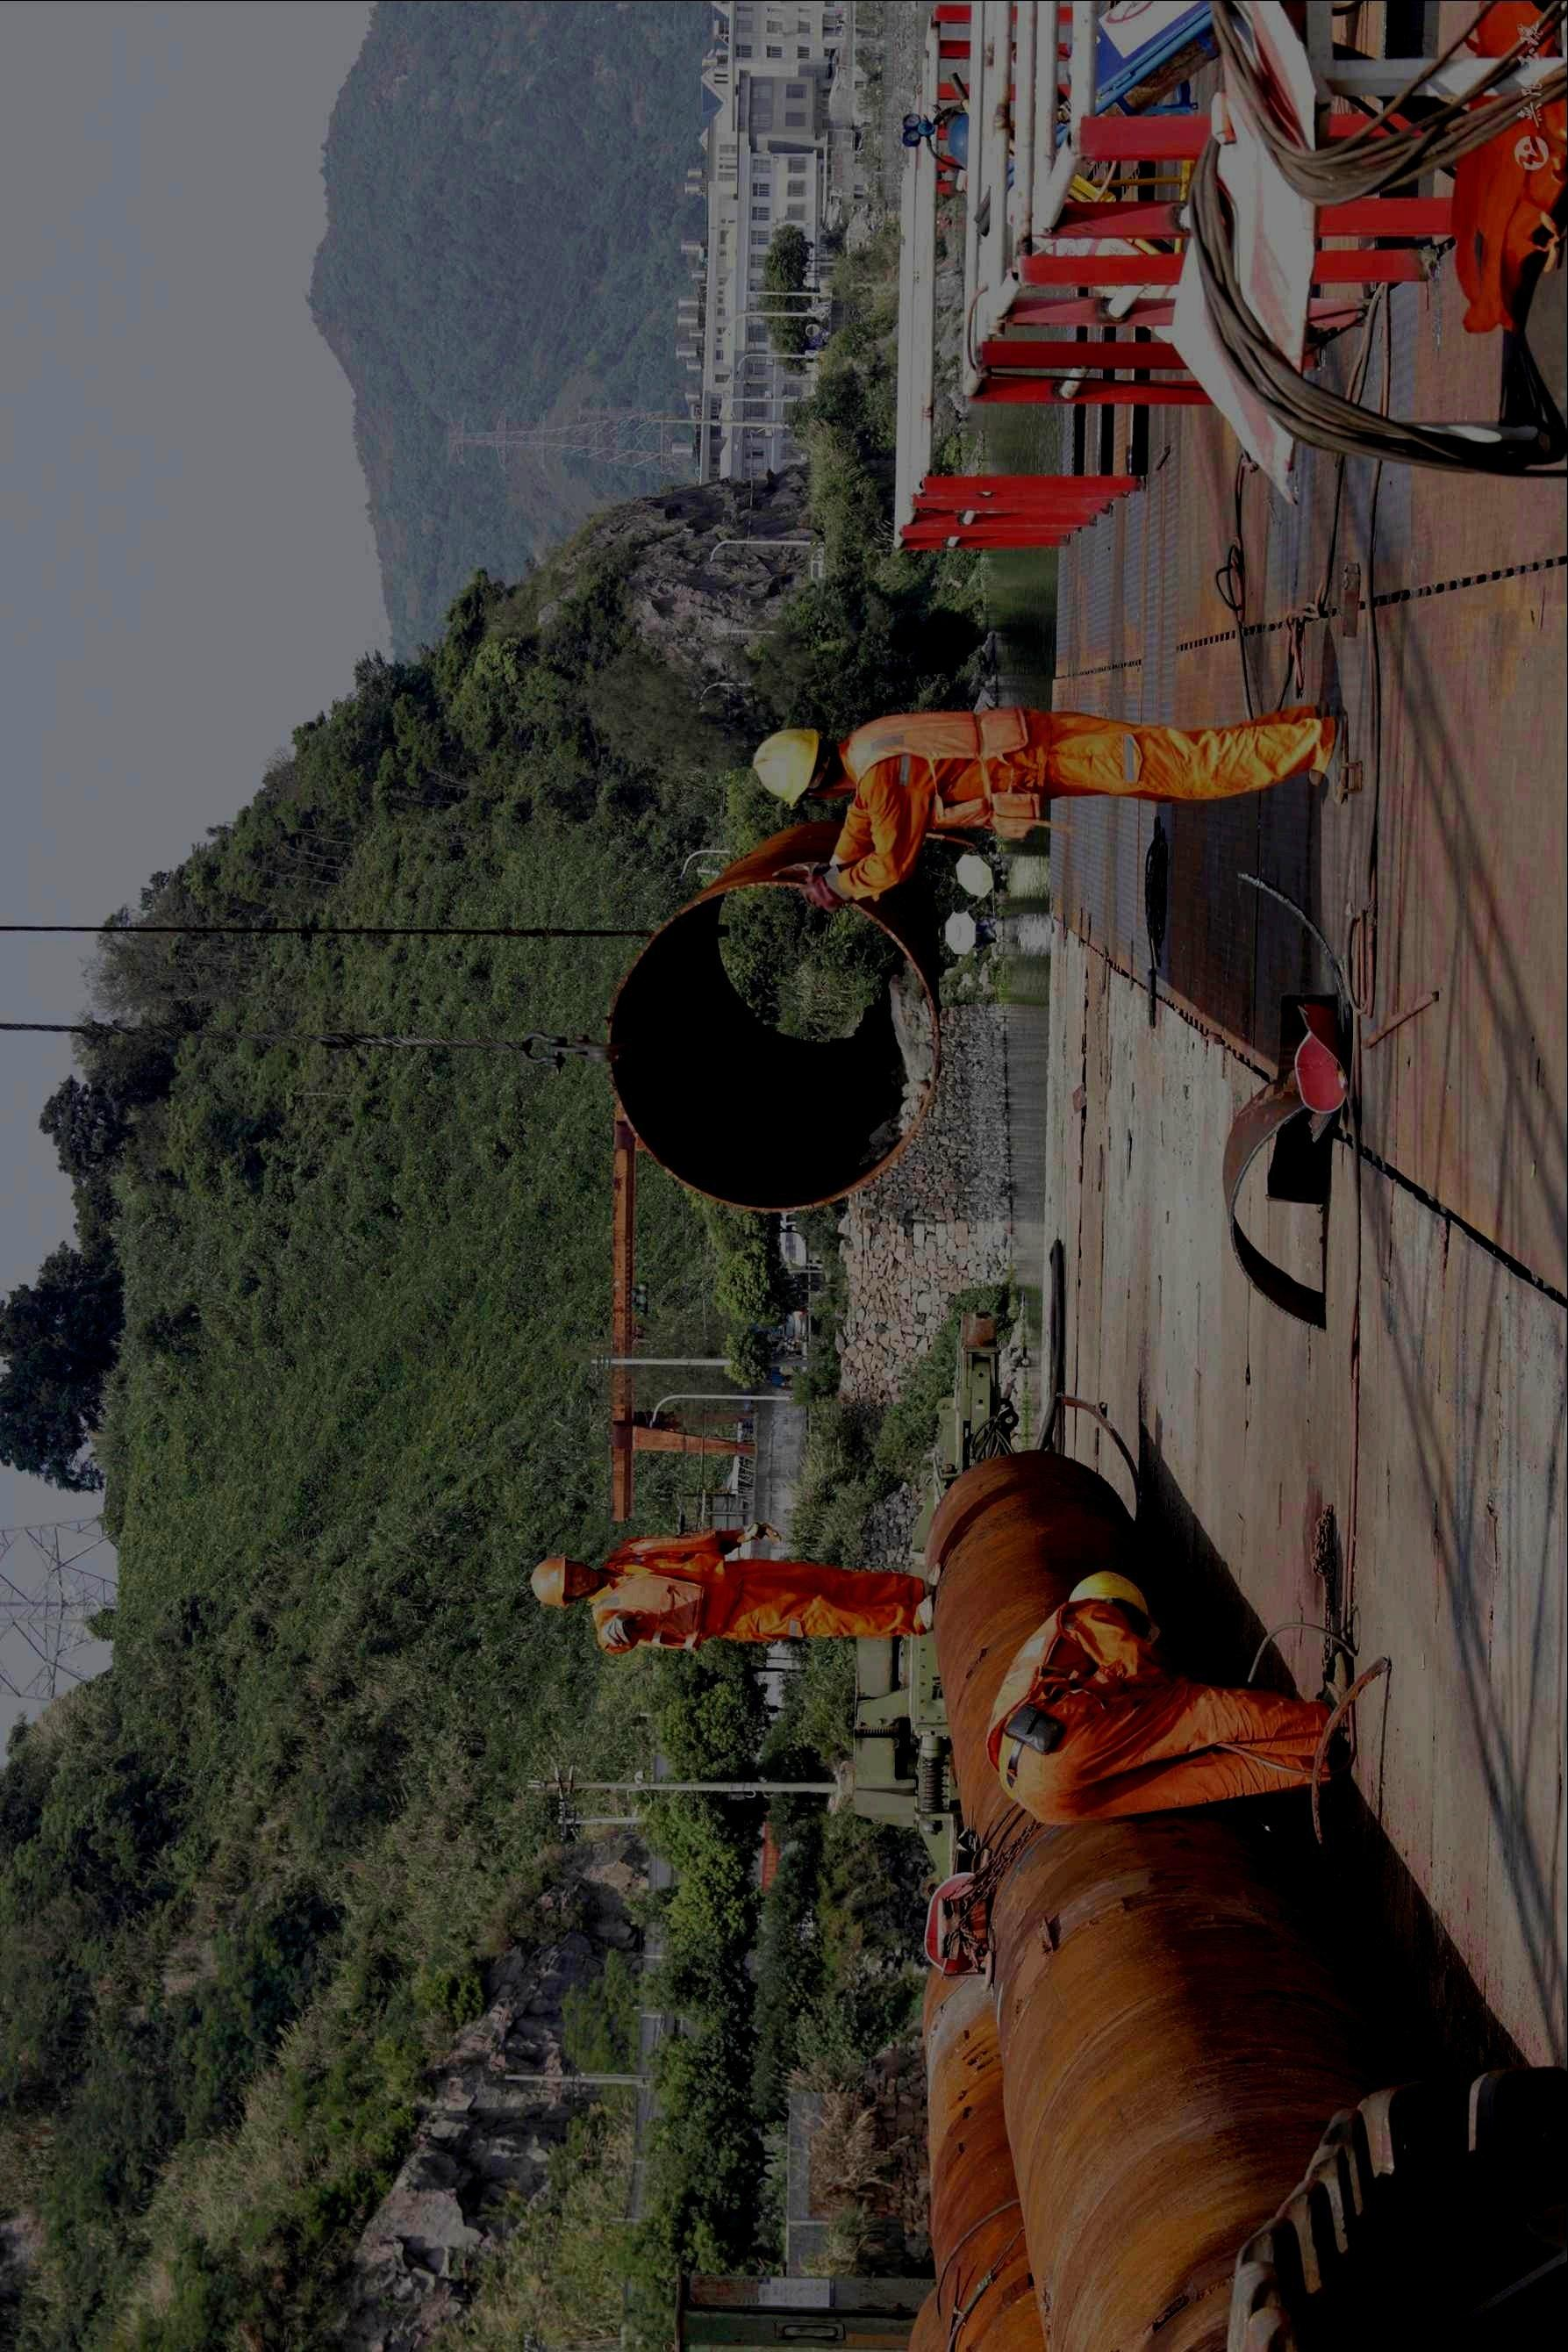helmet: (752, 728, 842, 808), (1067, 1570, 1160, 1645), (530, 1554, 600, 1606)
